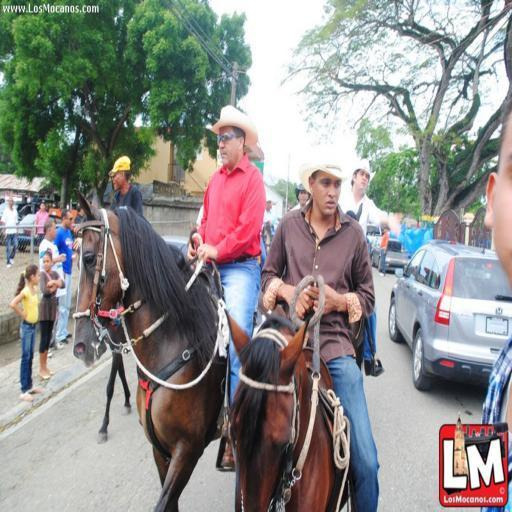horse: (72, 184, 262, 511), (220, 303, 354, 511), (338, 207, 382, 367)
